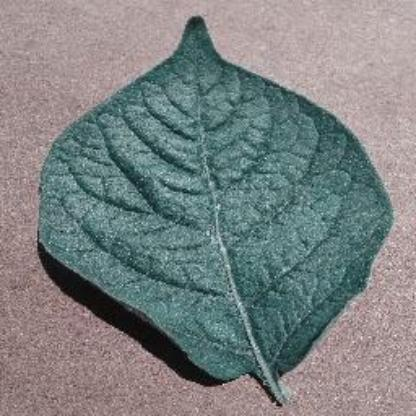Healthy-plant: (31, 12, 394, 404)
